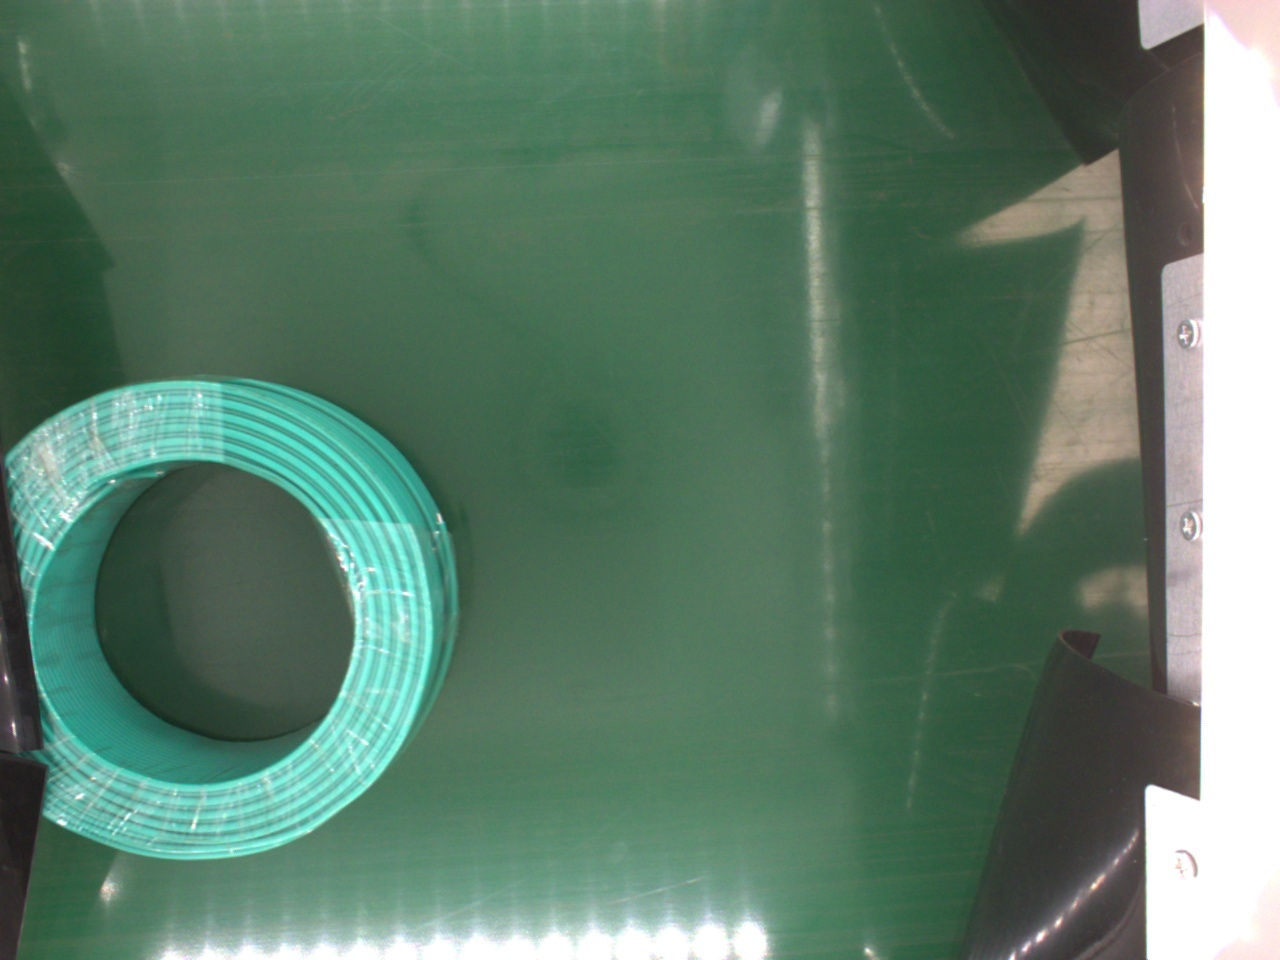green: (3, 372, 459, 862)
